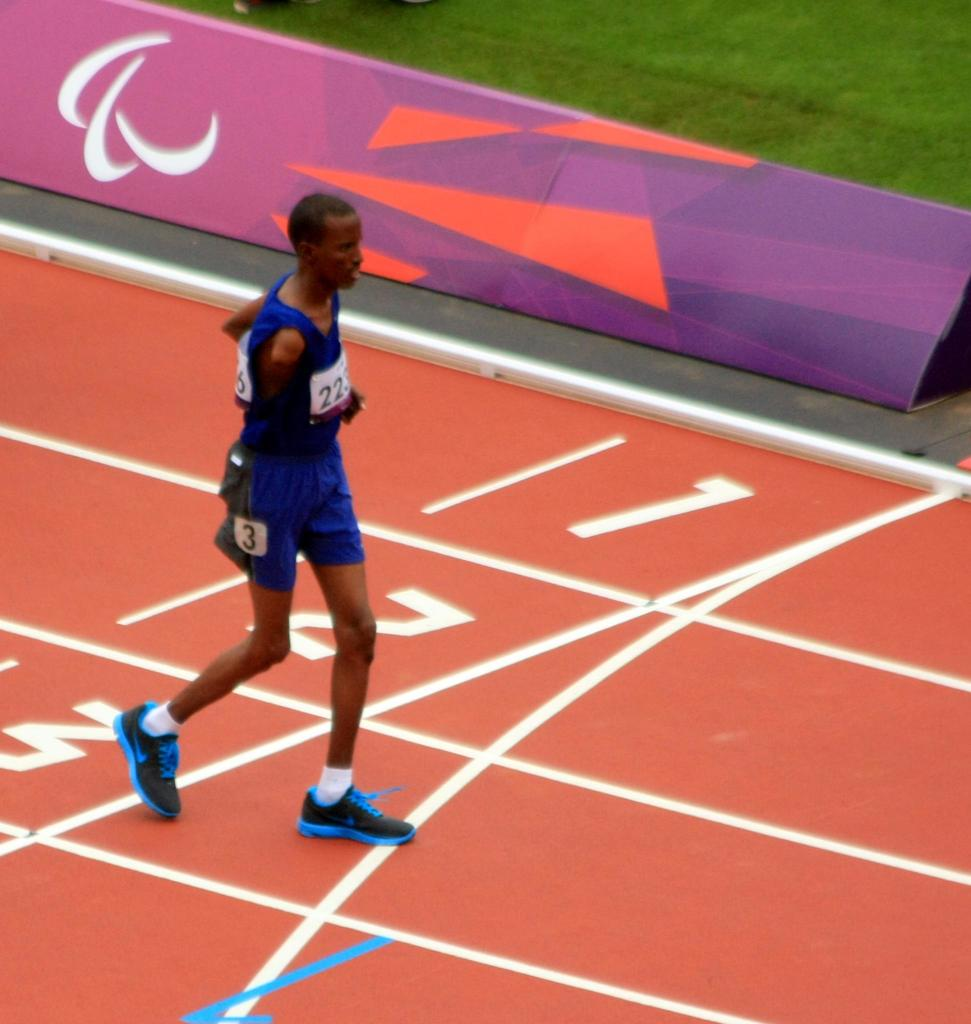Person: (112, 191, 416, 845)
